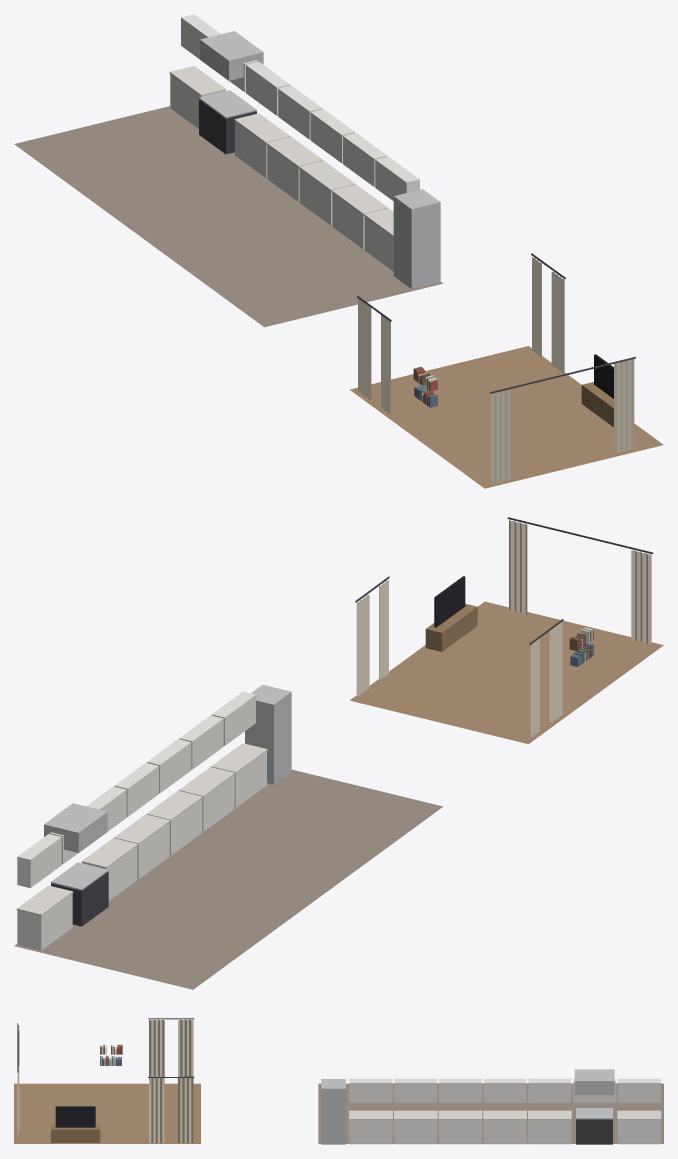
Rendered from fine-s1.glb.
3 renders of one model, top to bottom at view 1: azimuth 30°, elevation 25°; view 2: azimuth 150°, elevation 25°; view 3: azimuth 270°, elevation 25°, orthographic. The views are drawn at different scales.
Visible parts, largest first — view 1: soft-s1, fridge.000, range.000, counter-run.003, counter-run.002, counter-run.004, counter-run.001, counter-run.000, tv-console.001, counter-run.005, kitchen-upper.002, kitchen-upper.004 (+4 smaller); view 2: soft-s1, range.000, fridge.000, counter-run.000, tv-console.001, counter-run.003, counter-run.004, counter-run.002, counter-run.005, counter-run.001, kitchen-upper.000, kitchen-upper.004 (+4 smaller); view 3: soft-s1, range.000, tv-console.001, fridge.000, counter-run.000, counter-run.005, counter-run.001, counter-run.002, counter-run.004, counter-run.003, kitchen-upper.006, kitchen-upper.000 (+5 smaller).
Part boxes in pixels (box(x1,y1,x2,y2)): soft-s1: box(14, 106, 663, 488); fridge.000: box(393, 189, 440, 288); range.000: box(199, 31, 263, 154); counter-run.003: box(299, 160, 355, 225); counter-run.002: box(266, 137, 323, 201); counter-run.004: box(331, 184, 387, 249); counter-run.001: box(234, 113, 290, 178); counter-run.000: box(169, 66, 225, 128); tv-console.001: box(581, 354, 613, 427); counter-run.005: box(364, 208, 393, 271); kitchen-upper.002: box(246, 61, 290, 115); kitchen-upper.004: box(310, 109, 354, 163); soft-s1: box(14, 517, 663, 989); range.000: box(44, 803, 108, 926); fridge.000: box(245, 684, 291, 784); counter-run.000: box(16, 885, 73, 950); tv-console.001: box(425, 576, 477, 651); counter-run.003: box(146, 790, 202, 855); counter-run.004: box(178, 767, 235, 831); counter-run.002: box(114, 814, 170, 879); counter-run.005: box(211, 743, 267, 808); counter-run.001: box(81, 838, 137, 900); kitchen-upper.000: box(17, 834, 61, 888); kitchen-upper.004: box(147, 739, 191, 793); soft-s1: box(14, 1018, 663, 1143); range.000: box(574, 1069, 614, 1144); tv-console.001: box(51, 1106, 100, 1142); fridge.000: box(321, 1079, 345, 1144); counter-run.000: box(617, 1110, 661, 1144); counter-run.005: box(349, 1110, 392, 1144); counter-run.001: box(528, 1110, 571, 1144); counter-run.002: box(483, 1110, 526, 1144); counter-run.004: box(394, 1110, 437, 1144); counter-run.003: box(438, 1110, 482, 1144); kitchen-upper.006: box(349, 1078, 392, 1102); kitchen-upper.000: box(617, 1078, 660, 1102).
Bounding box in the file's own units: 4.78 × 2.4 × 21.08.
